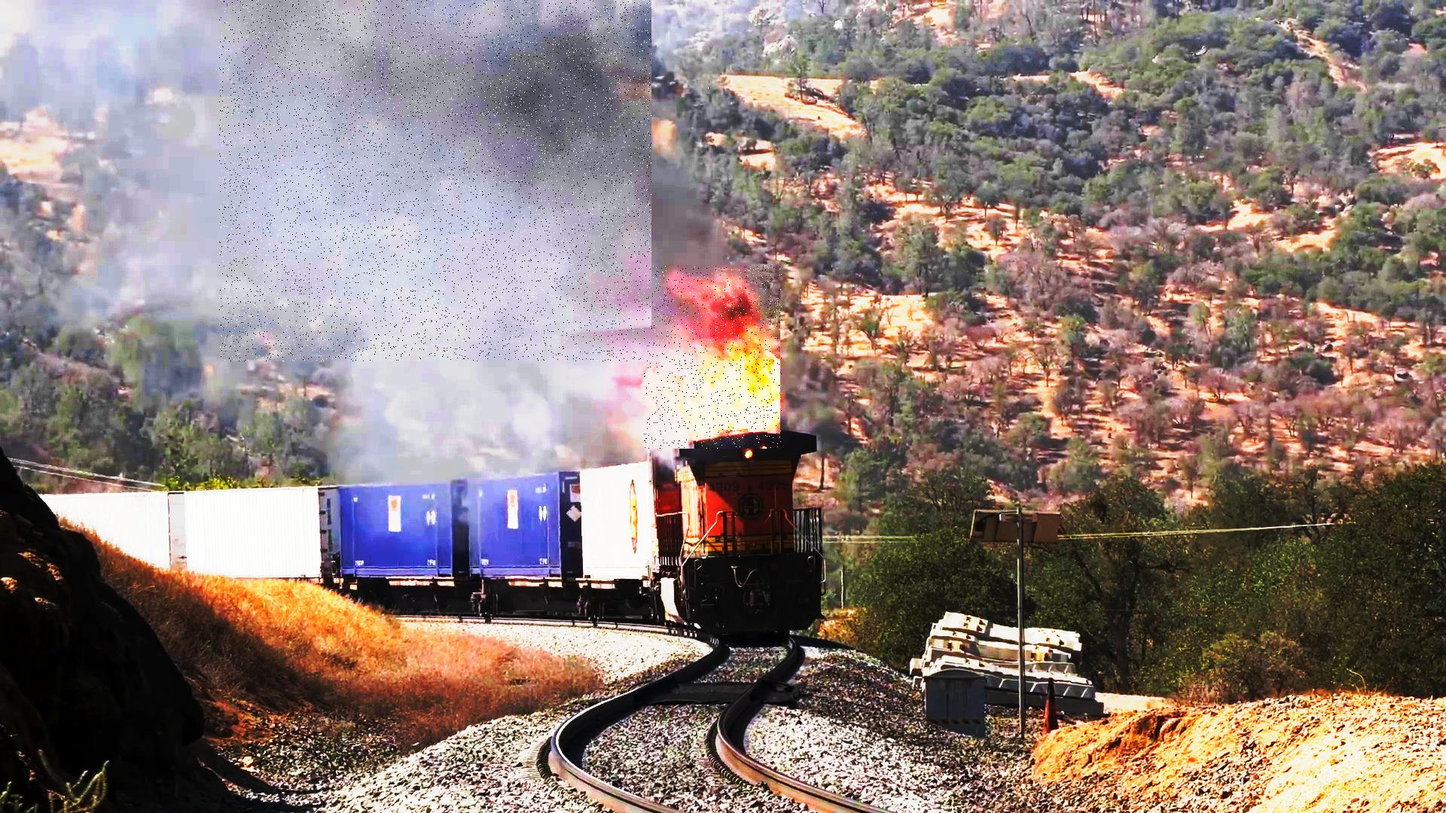fire: (644, 266, 782, 449)
smoke: (219, 0, 652, 362)
